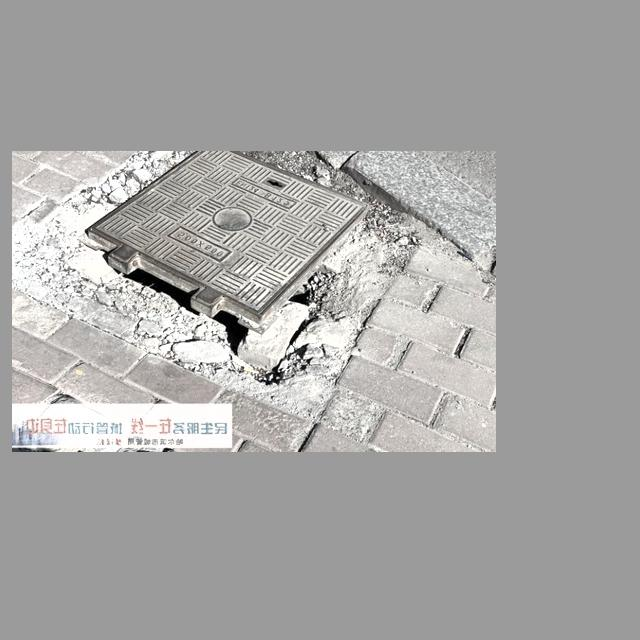circle: (17, 155, 418, 391)
